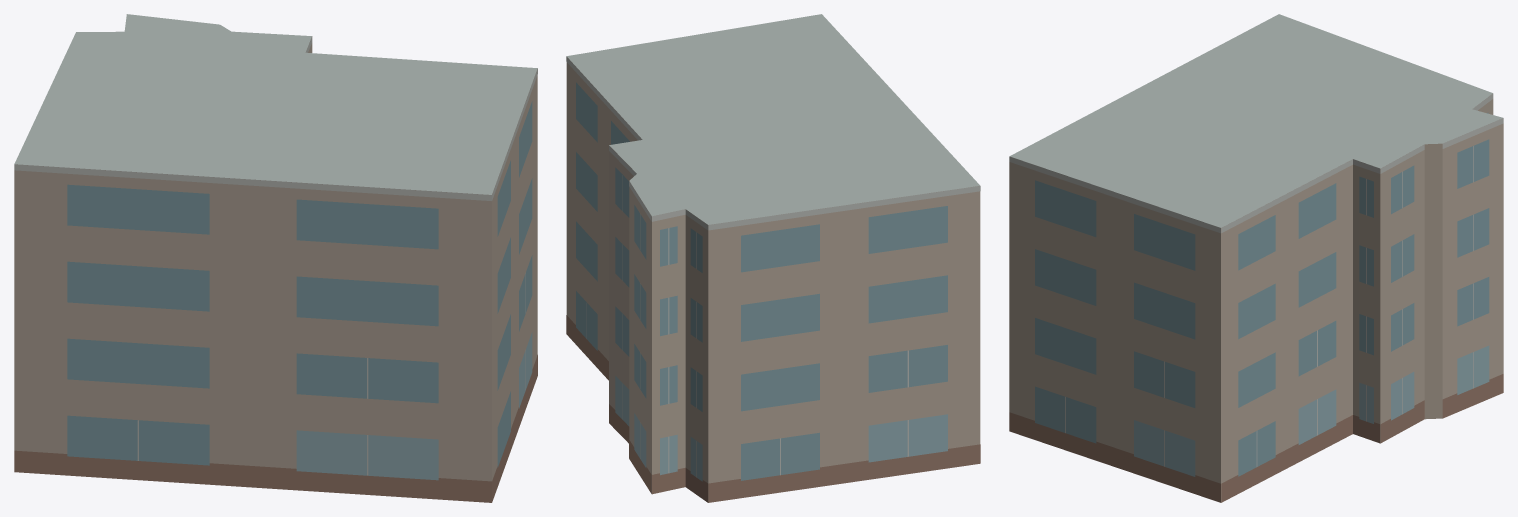
The model's file is survey-upis-32847581.glb.
3 renders of one model, left to right at view 1: azimuth 30°, elevation 25°; view 2: azimuth 150°, elevation 25°; view 3: azimuth 270°, elevation 25°, orthographic. The views are drawn at different scales.
Parts seen in each view (by area): view 1: survey-upis-32847581.tmp; view 2: survey-upis-32847581.tmp; view 3: survey-upis-32847581.tmp.
Part boxes in pixels (<box>): survey-upis-32847581.tmp: <box>14,14,537,502</box>; survey-upis-32847581.tmp: <box>566,14,980,502</box>; survey-upis-32847581.tmp: <box>1009,14,1503,502</box>.
Bounding box in the file's own units: 20.37 × 12.2 × 19.88.
